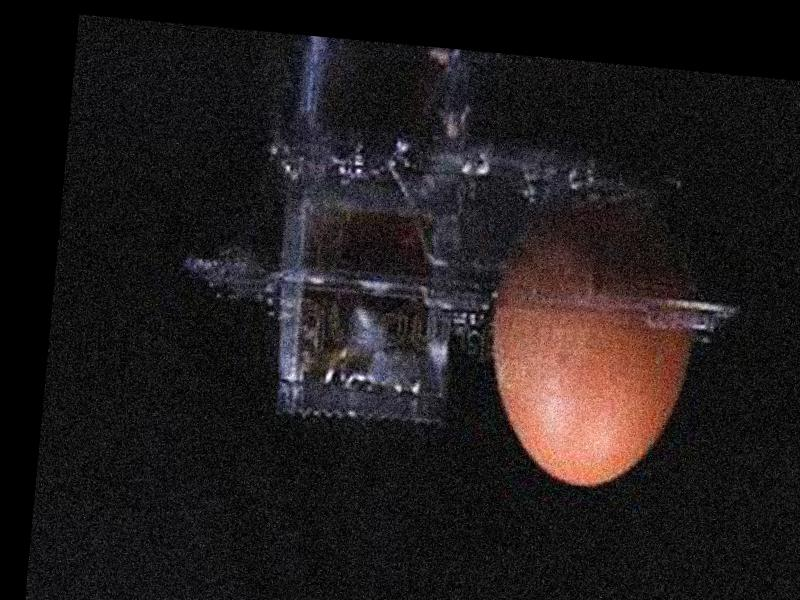Eggs: (481, 182, 708, 494)
